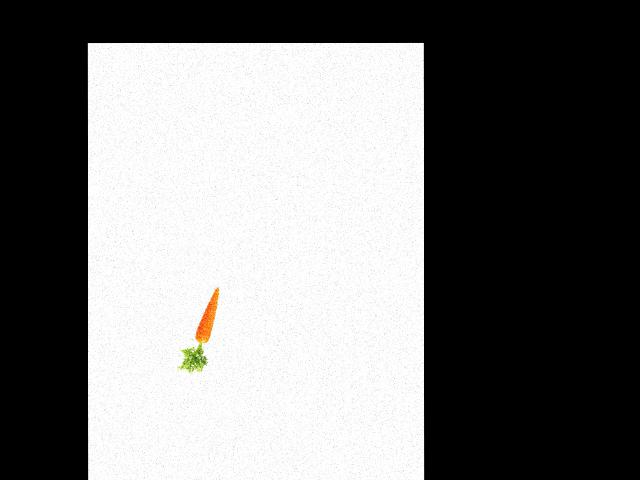carrot: (193, 284, 221, 344)
